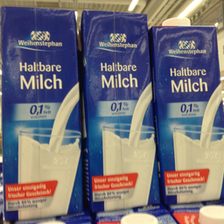milk: (1, 6, 87, 217), (79, 8, 164, 213), (151, 18, 224, 206)
